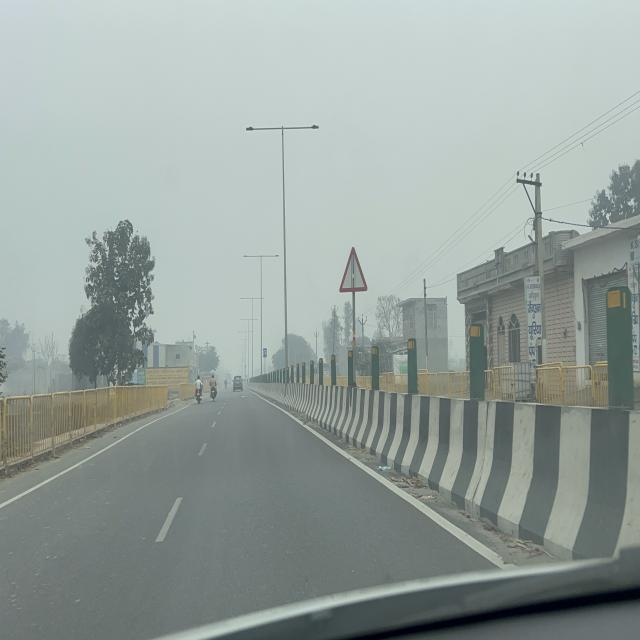GAP_IN_MEDIAN: (339, 246, 368, 294)
U_TURN: (263, 348, 267, 358)
